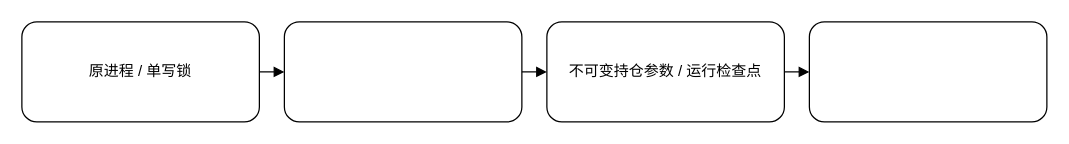
Image size: 1069x144. Some labels were removed from this diagram. Here are the shapes that lost their labels. From the top down, the centre of each, then its label:
(402,71): 权威仓位与订单账本
(927,71): 新进程 / 兼容校验
